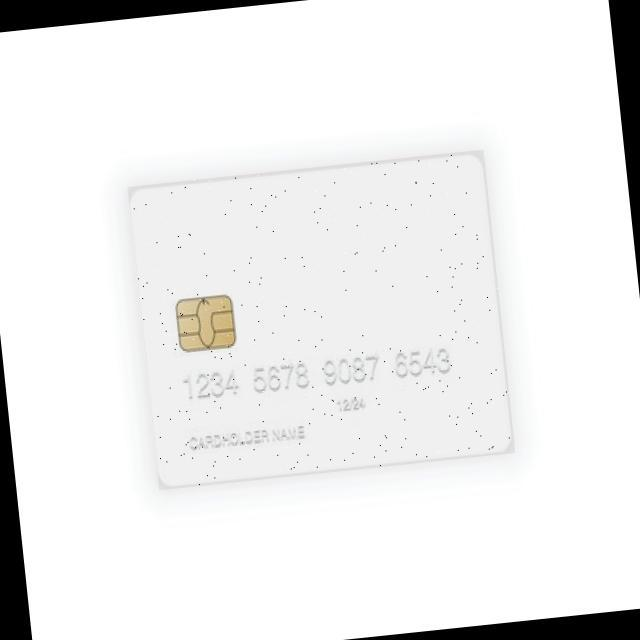payment_card: (126, 148, 515, 489)
